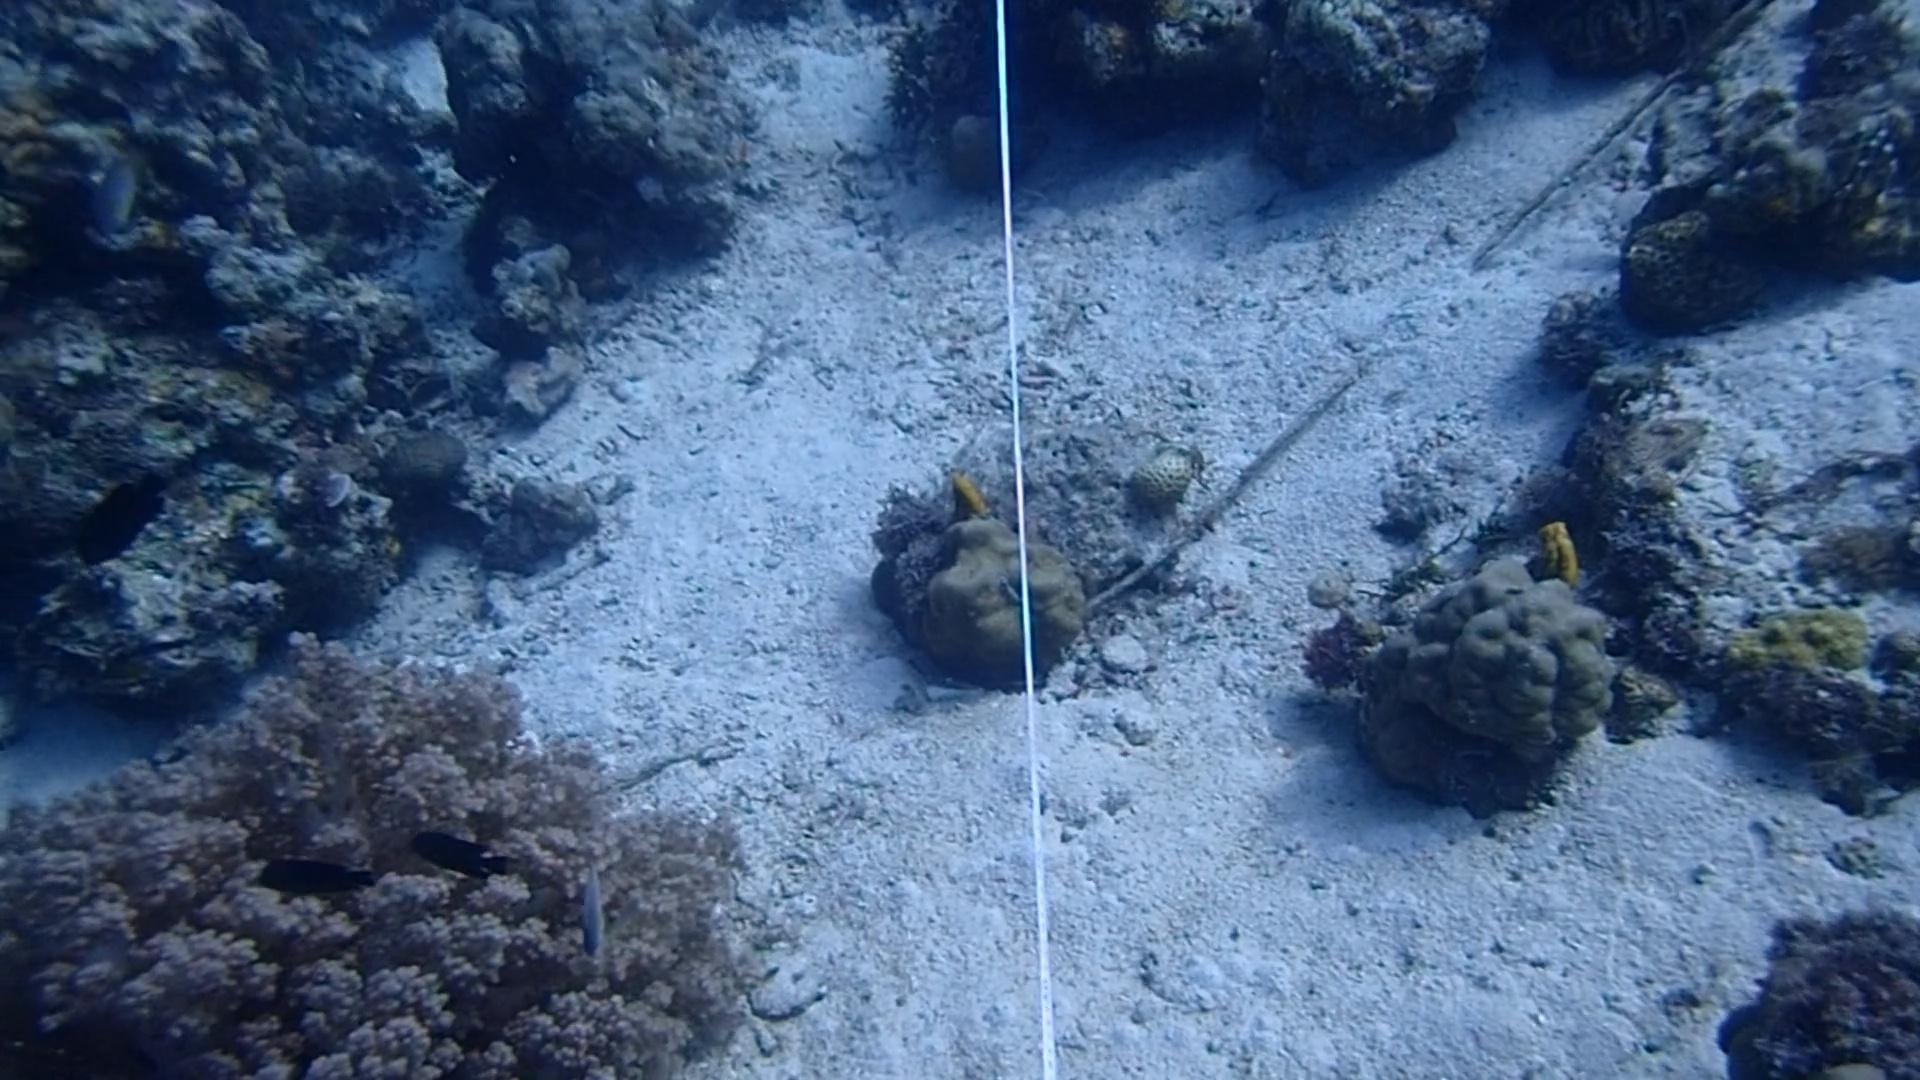Dark Fish: (54, 465, 185, 580), (404, 819, 535, 894), (245, 857, 377, 907)
Light Fish: (75, 136, 149, 245), (564, 870, 615, 956)
